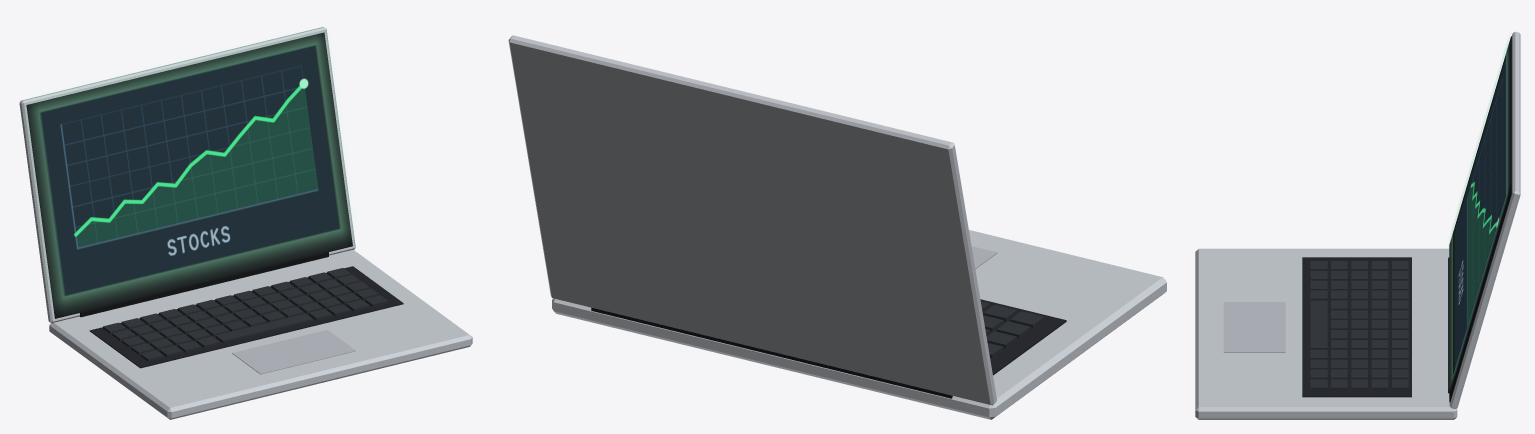
File: laptop_giant.glb
3 renders of one model, left to right at view 1: azimuth 30°, elevation 25°; view 2: azimuth 150°, elevation 25°; view 3: azimuth 270°, elevation 25°, orthographic. The views are drawn at different scales.
Visible parts, largest first — view 1: lid, base, glow; view 2: lid, base; view 3: base, lid, glow.
Boxes of the visible parts, box(x1,y1,x2,y2) form: lid: box(19, 27, 355, 323); base: box(49, 249, 472, 419); glow: box(31, 34, 349, 306); lid: box(508, 35, 996, 405); base: box(552, 230, 1166, 419); base: box(1195, 248, 1457, 419); lid: box(1449, 31, 1520, 408); glow: box(1450, 40, 1508, 386).
Bounding box in the file's own units: 1.68 × 1.12 × 1.37.
Materials: 7 (2 with a texture image).
